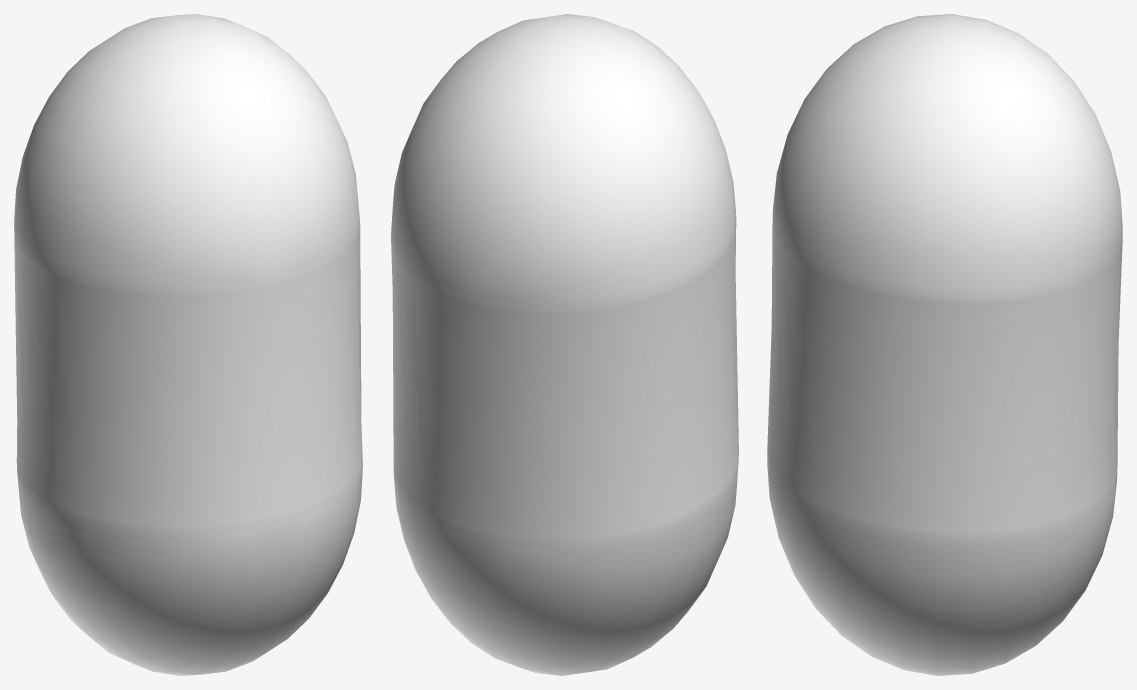
Rendered from dedocinco_Muffin.obj.
3 renders of one model, left to right at view 1: azimuth 30°, elevation 25°; view 2: azimuth 150°, elevation 25°; view 3: azimuth 270°, elevation 25°, orthographic.
Parts seen in each view (by area): view 1: Object013; view 2: Object013; view 3: Object013.
Part boxes in pixels (bbox=[...]): Object013: bbox=[14, 14, 362, 675]; Object013: bbox=[391, 14, 738, 675]; Object013: bbox=[767, 14, 1122, 675].
Bounding box in the file's own units: 4.1 × 8.33 × 4.22.
